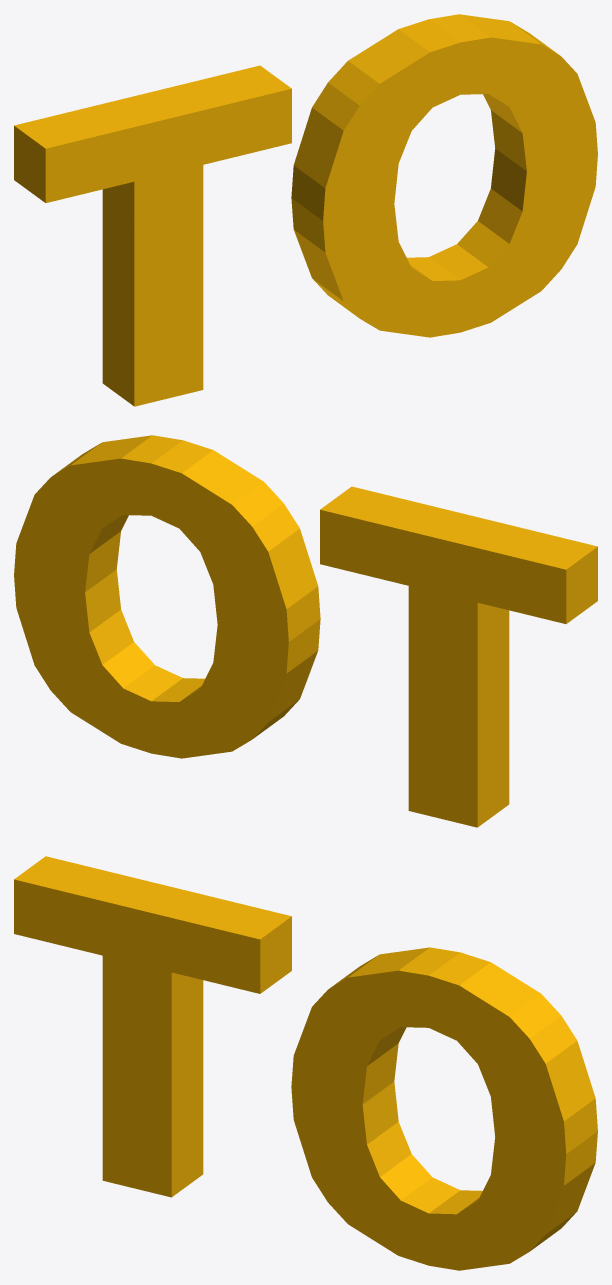
File: suku_besar_to.glb
3 views of the same model, one above another, from view 1: azimuth 30°, elevation 25°; view 2: azimuth 150°, elevation 25°; view 3: azimuth 330°, elevation 25° (orthographic).
Visible parts, largest first — view 1: geometry_0; view 2: geometry_0; view 3: geometry_0.
Part boxes in pixels (left/top/right/bottom): geometry_0: left=14, top=14, right=597, bottom=406; geometry_0: left=14, top=435, right=597, bottom=827; geometry_0: left=14, top=856, right=597, bottom=1270.
Bounding box in the file's own units: 15.07 × 7.56 × 1.5.
